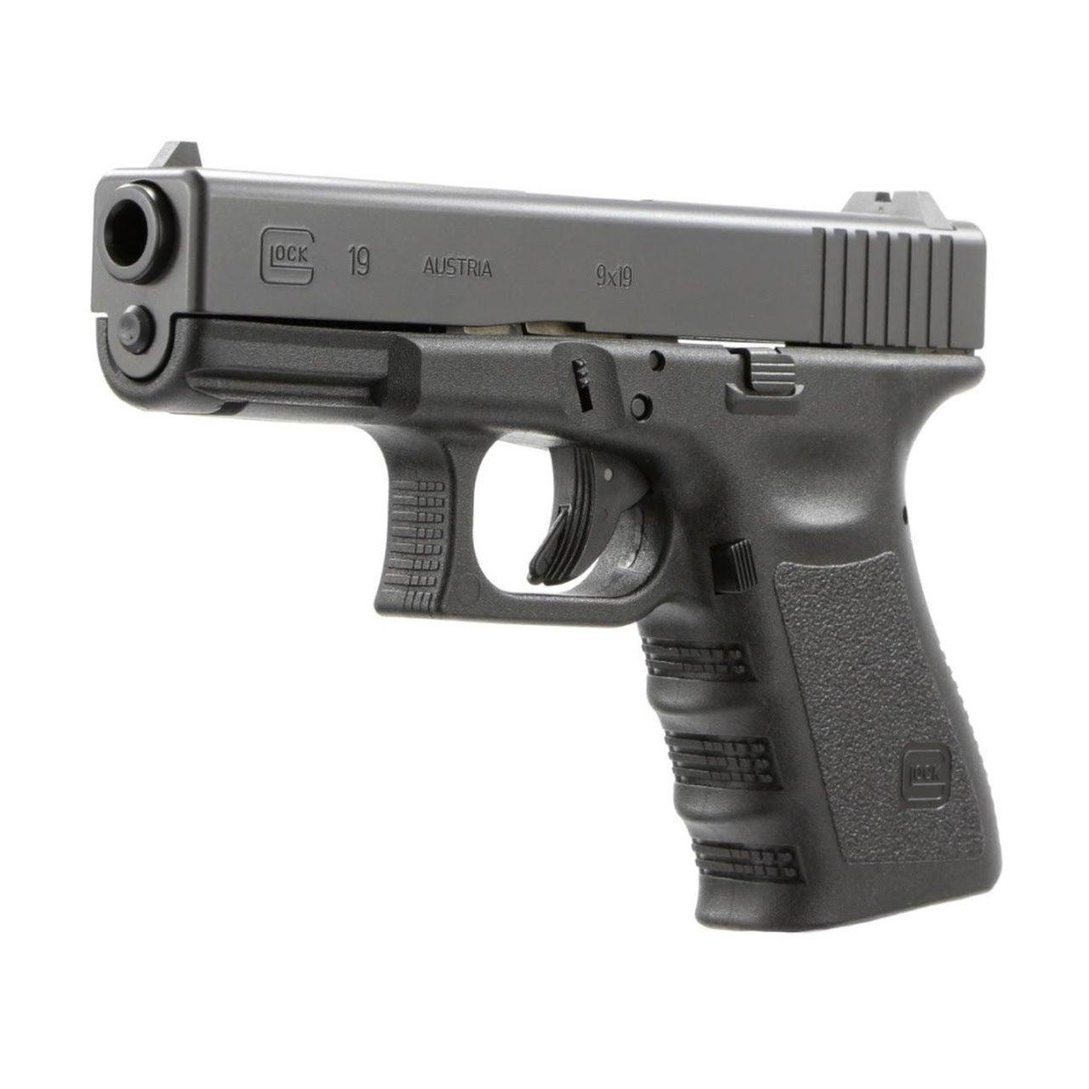Pistol: (74, 125, 1046, 938)
